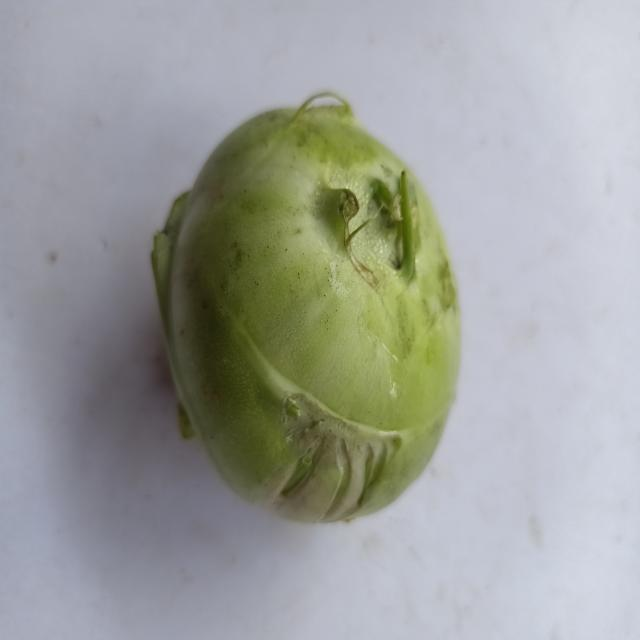Turnip: (136, 54, 469, 541)
